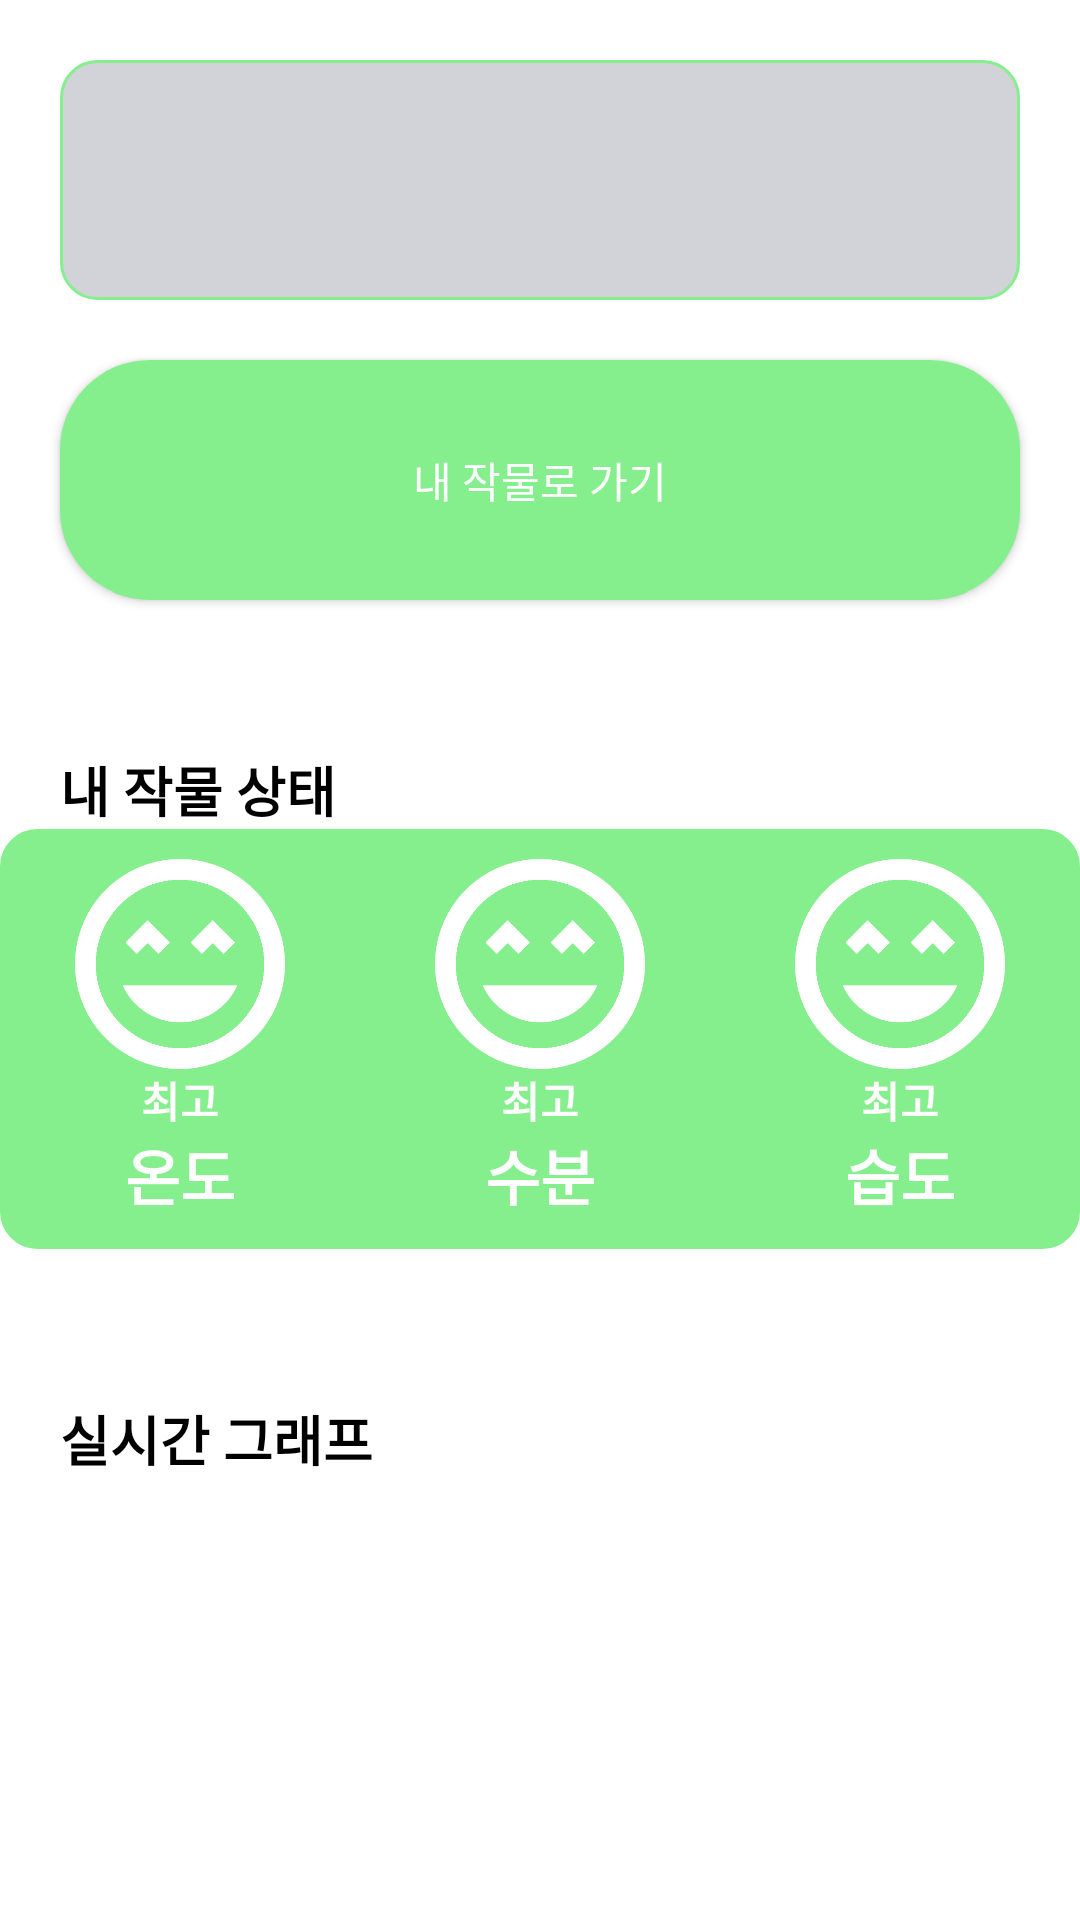

Locate icon controls on the screen. Image size 1080px x 1920px, boxes as [x1, y1, x2, y2].
face very satisfied: [75, 859, 285, 1069], [435, 859, 645, 1069], [795, 859, 1005, 1069]
